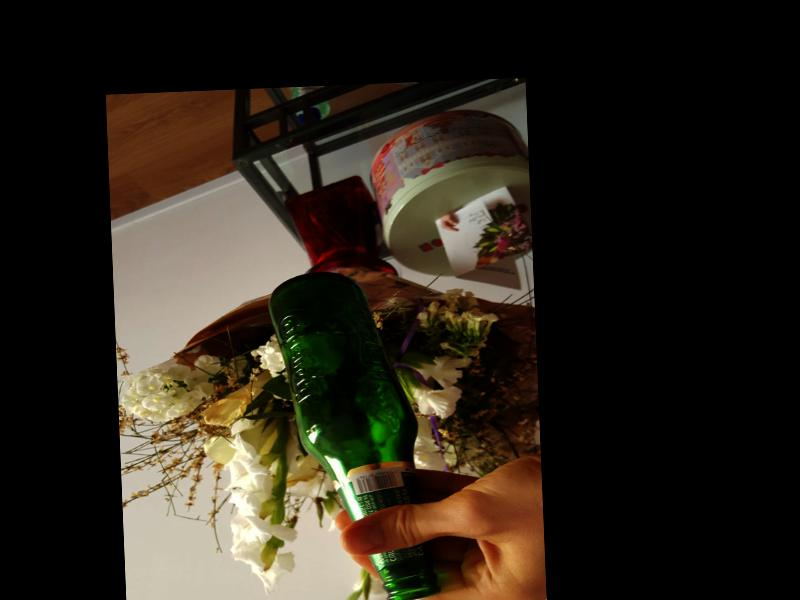Beer: (267, 268, 425, 600)
